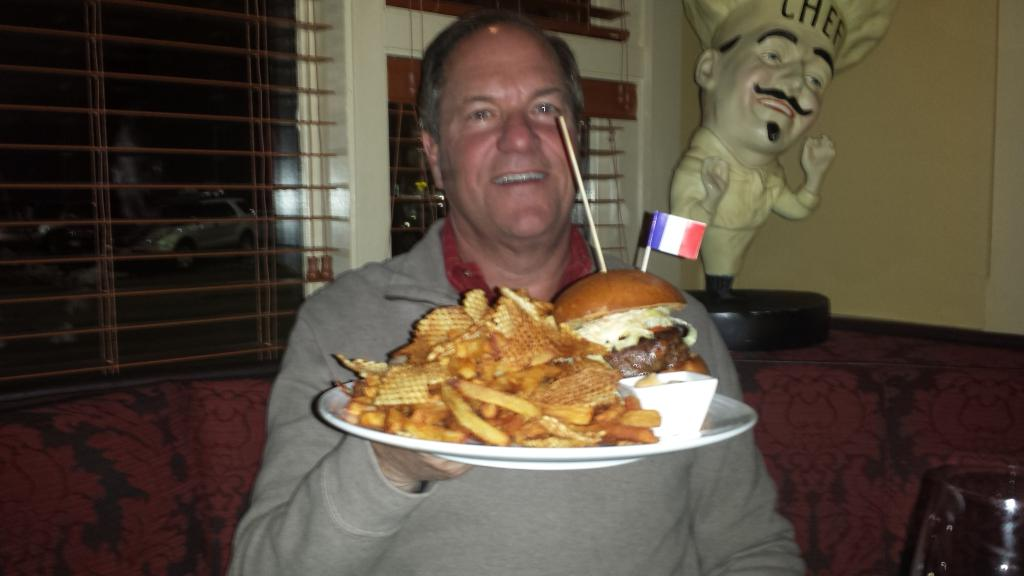French fries: (341, 300, 664, 441)
